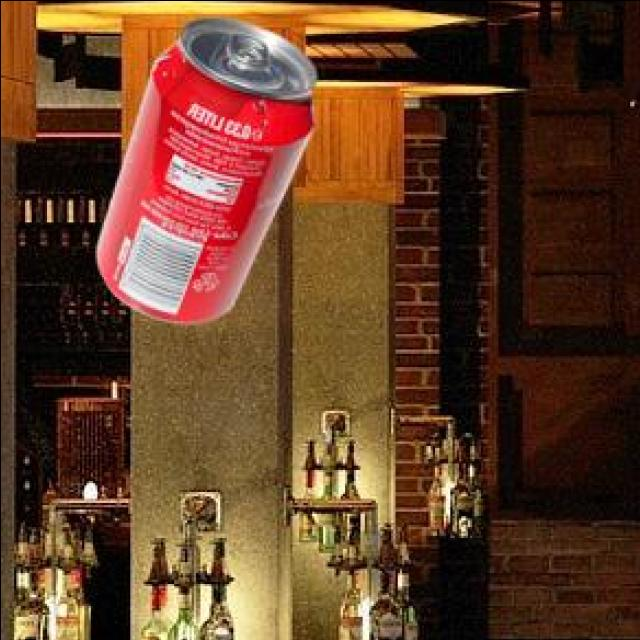logam: (93, 21, 312, 325)
